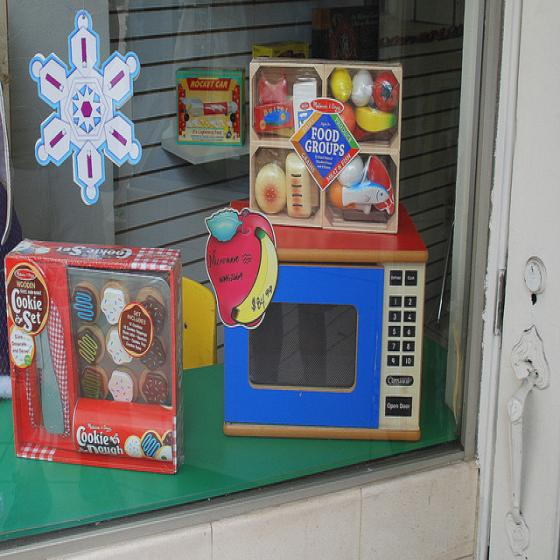apple: (204, 207, 276, 330)
banana: (231, 226, 279, 325), (354, 107, 397, 132)
microwave: (224, 224, 425, 435)
